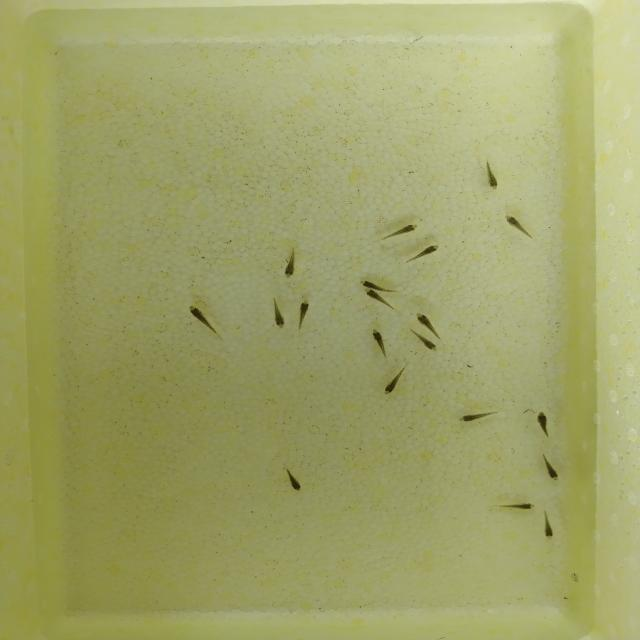fingerling: (183, 303, 228, 341), (500, 213, 538, 239), (367, 328, 396, 362), (375, 220, 421, 241), (404, 240, 444, 264), (379, 366, 408, 397), (278, 247, 302, 282), (482, 156, 504, 193), (452, 409, 500, 424), (269, 294, 288, 330), (532, 409, 554, 440), (538, 454, 562, 482), (280, 464, 304, 492), (295, 297, 315, 330), (494, 500, 540, 512), (413, 310, 439, 331), (362, 286, 389, 306), (409, 337, 440, 354), (540, 513, 553, 542), (356, 278, 379, 288)
